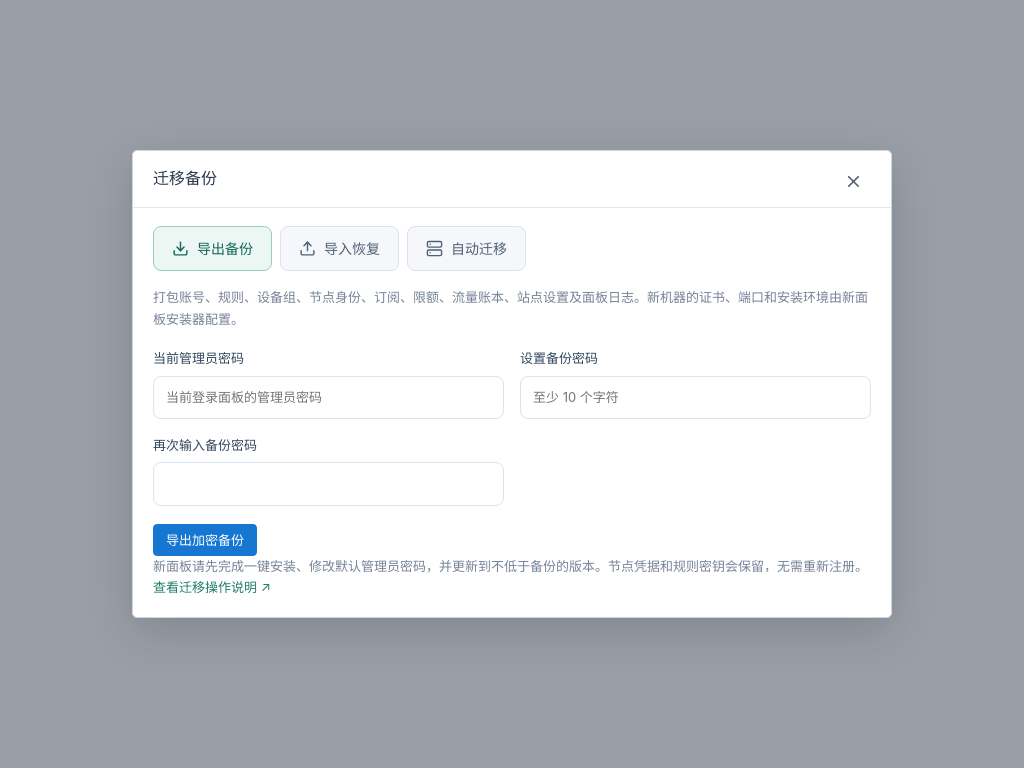
Scenario: migration backup dialog › validates password confirmation and keeps export success visible after secrets are cleared
Type "isolated-admin" into the password field labelled "当前管理员密码". click: (328, 397)
box: x1=153 y1=376 x2=504 y2=419
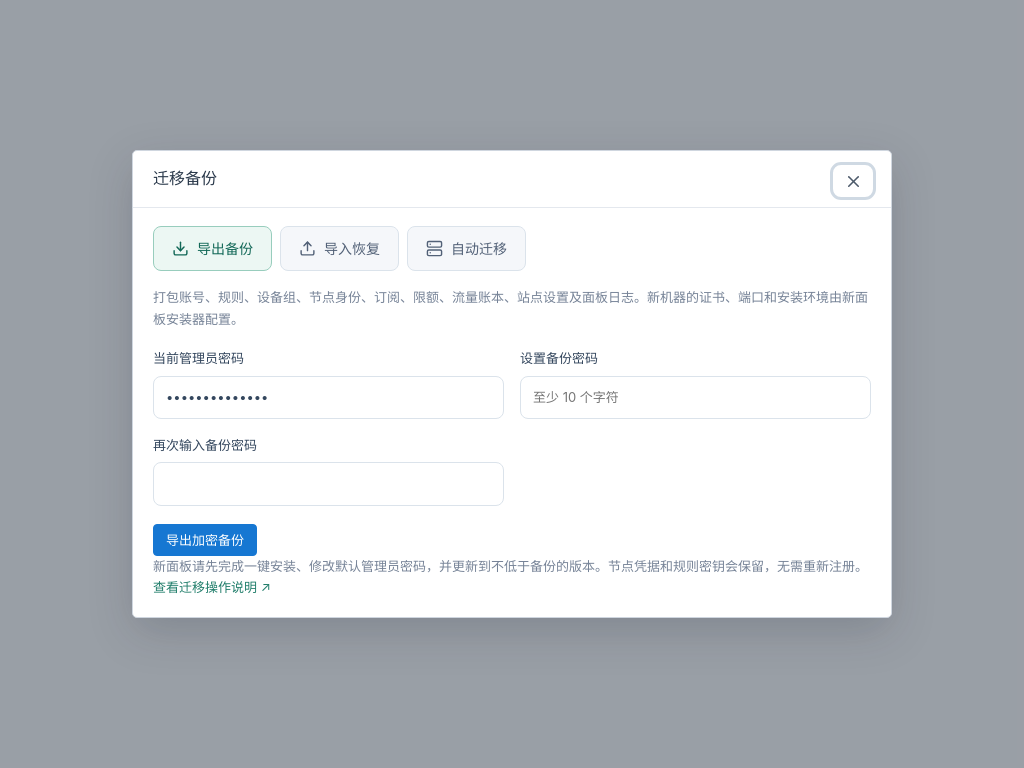
Type "isolated-backup" into the password field named "备份密码". click: (696, 397)
box: x1=520 y1=376 x2=871 y2=419
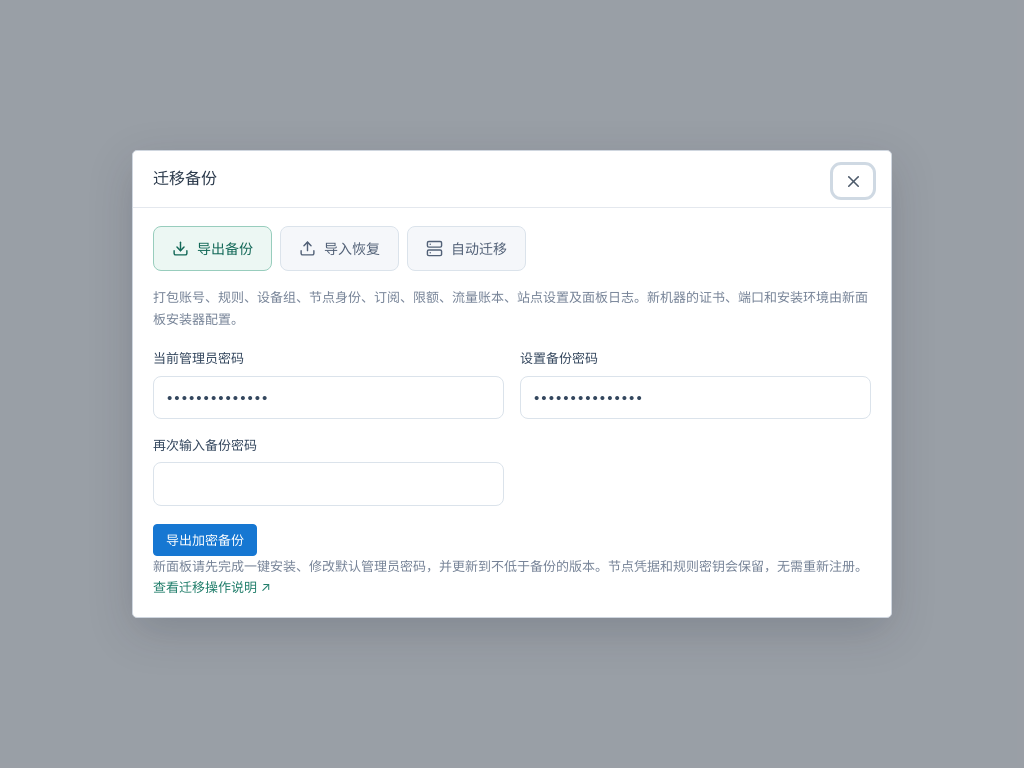
Type "different" into the password field labelled "再次输入备份密码". click: (328, 484)
box: x1=153 y1=462 x2=504 y2=506
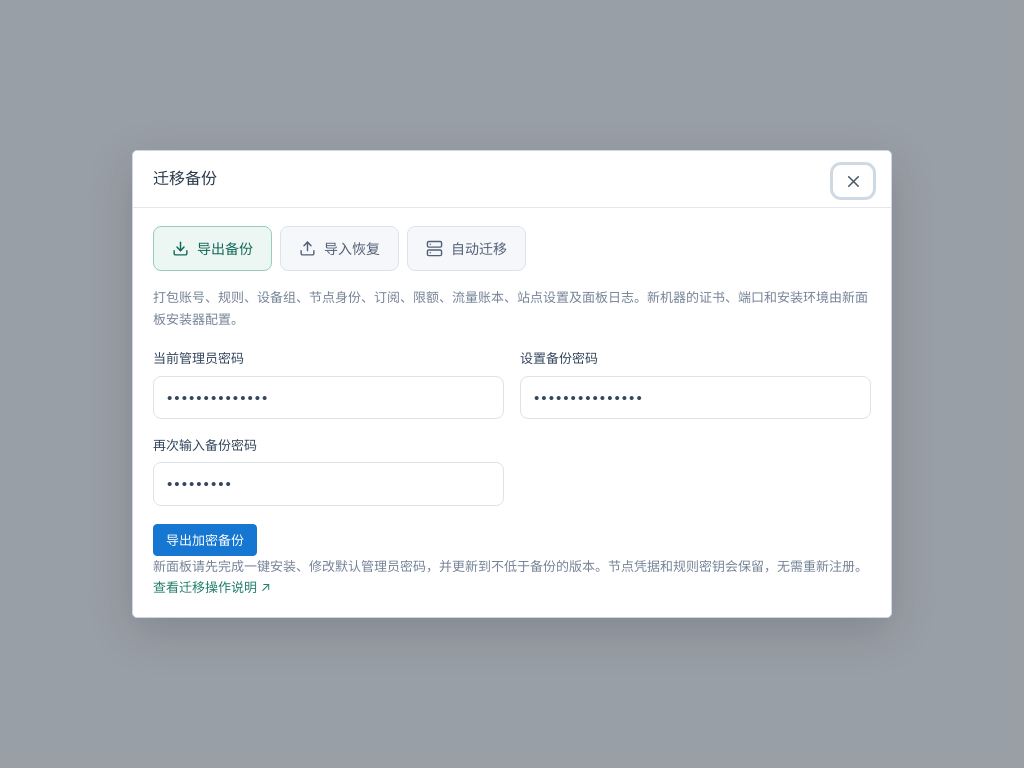
Click the button "导出加密备份". click: (205, 540)
box: x1=153 y1=524 x2=257 y2=556
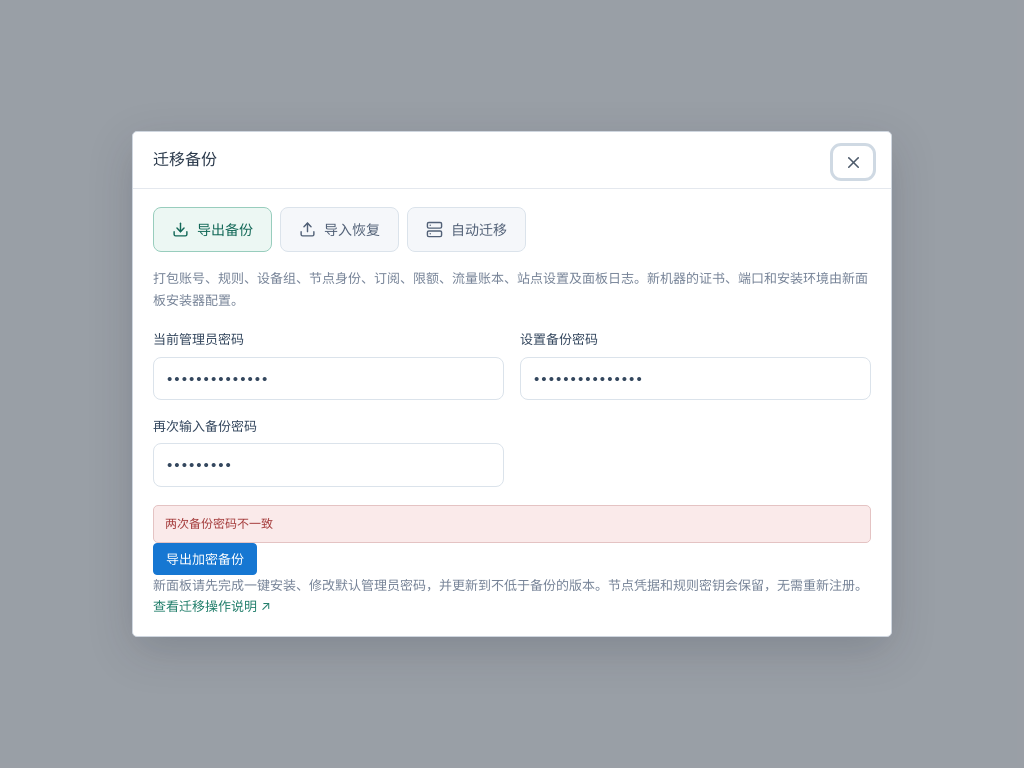
Expected: the dialog shows "两次备份密码不一致", x1=165 y1=516 x2=273 y2=531
Type "isolated-backup" into the password field labelled "再次输入备份密码". click: (328, 465)
box: x1=153 y1=444 x2=504 y2=487
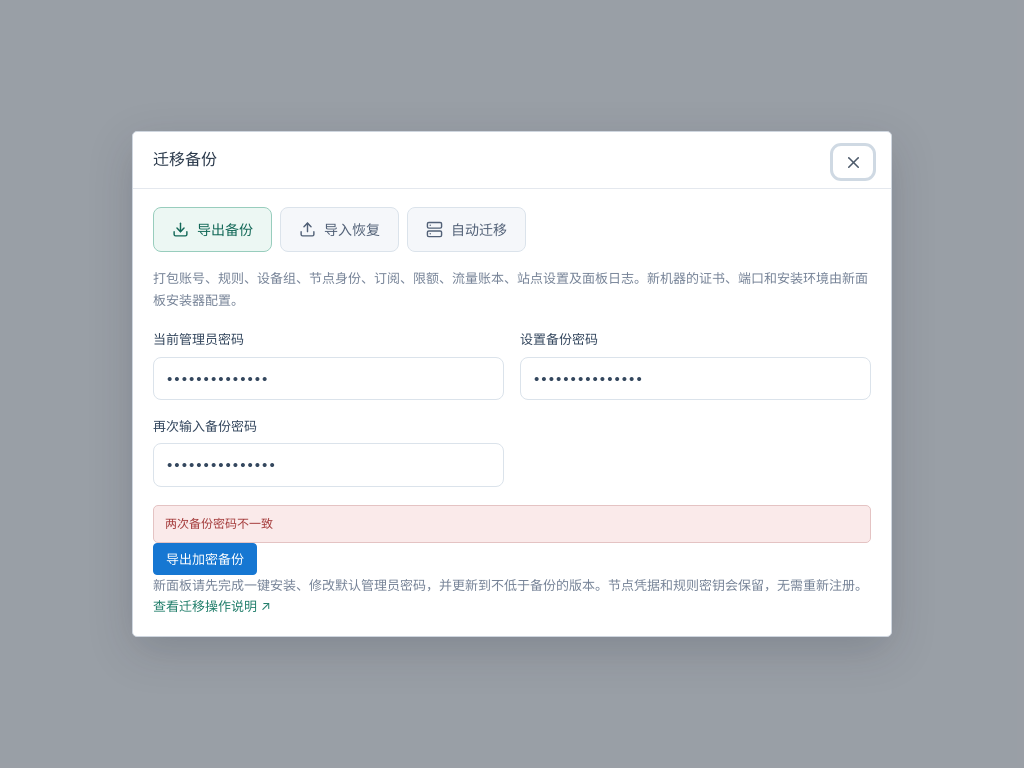
Click the button "导出加密备份". click: (205, 559)
box: x1=153 y1=543 x2=257 y2=575
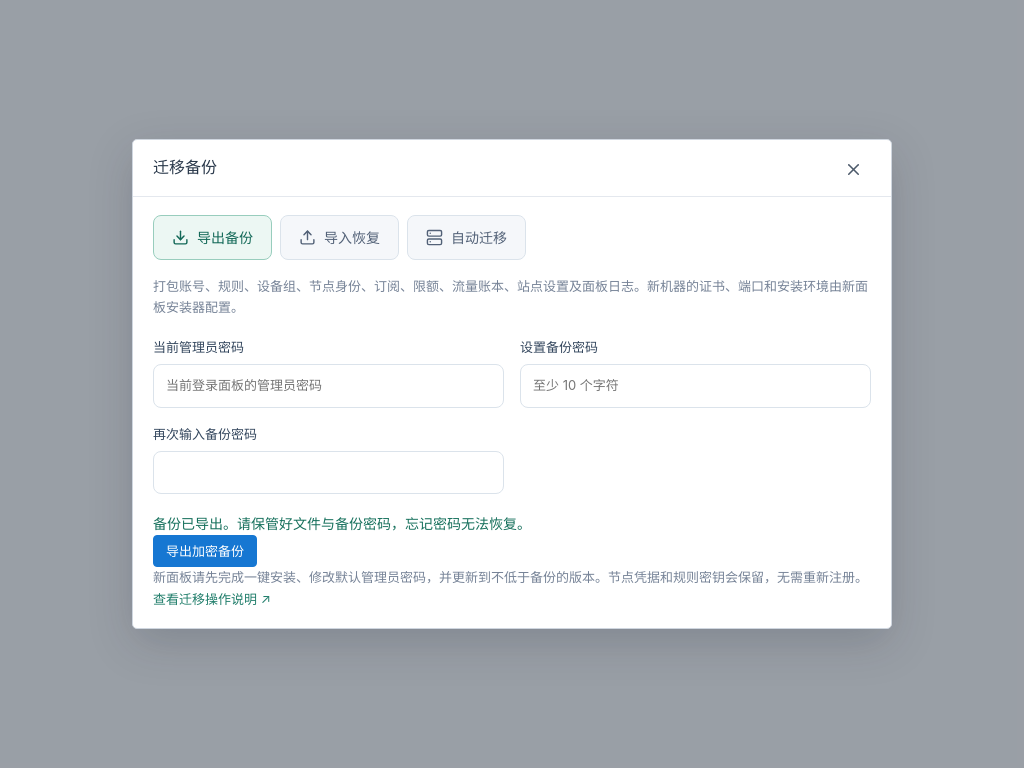
Expected: the dialog shows "备份已导出", x1=153 y1=515 x2=531 y2=532
Expected: the password field named "备份密码" is empty, x1=520 y1=364 x2=871 y2=408
